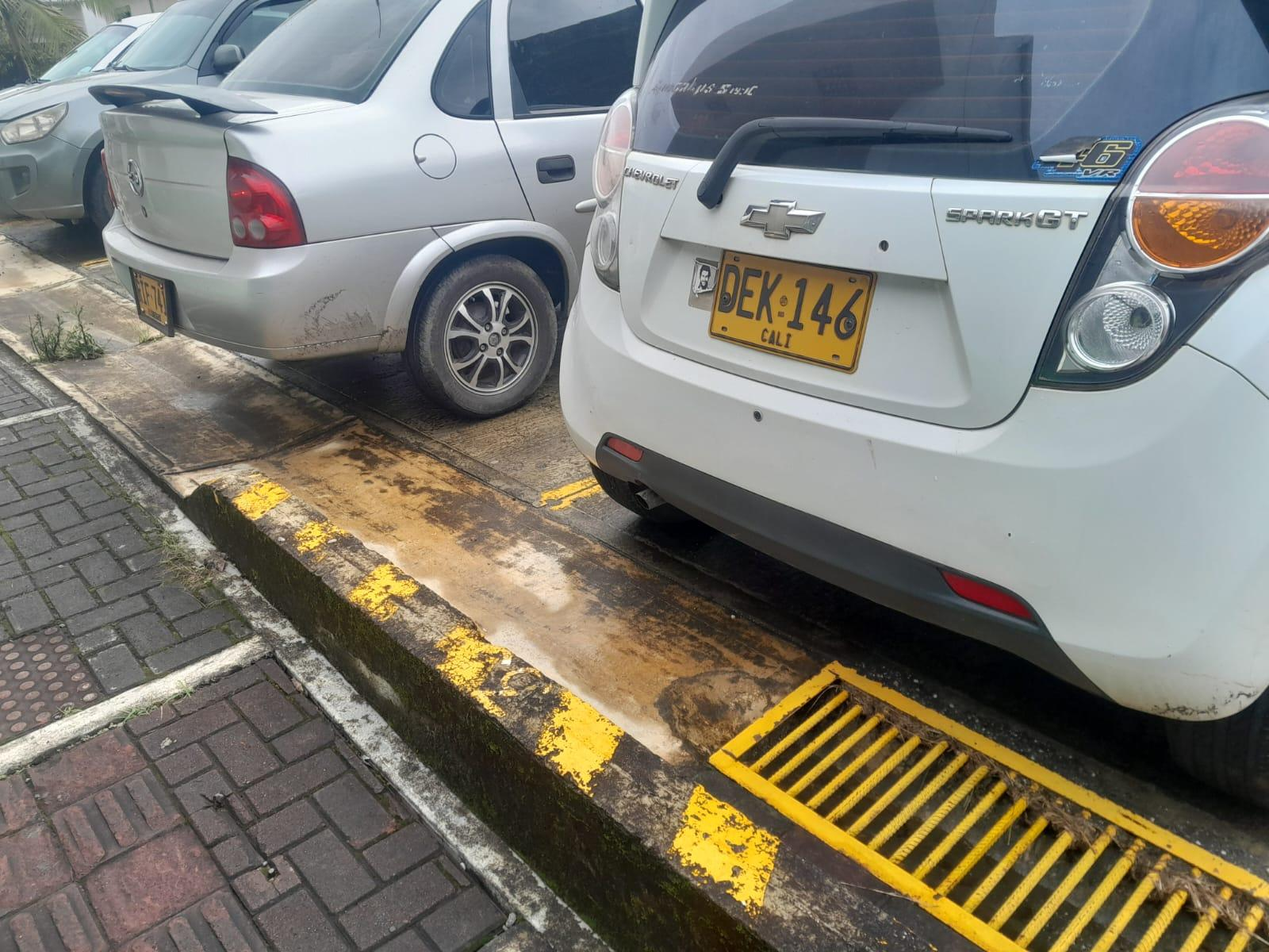placa: (711, 252, 875, 372)
